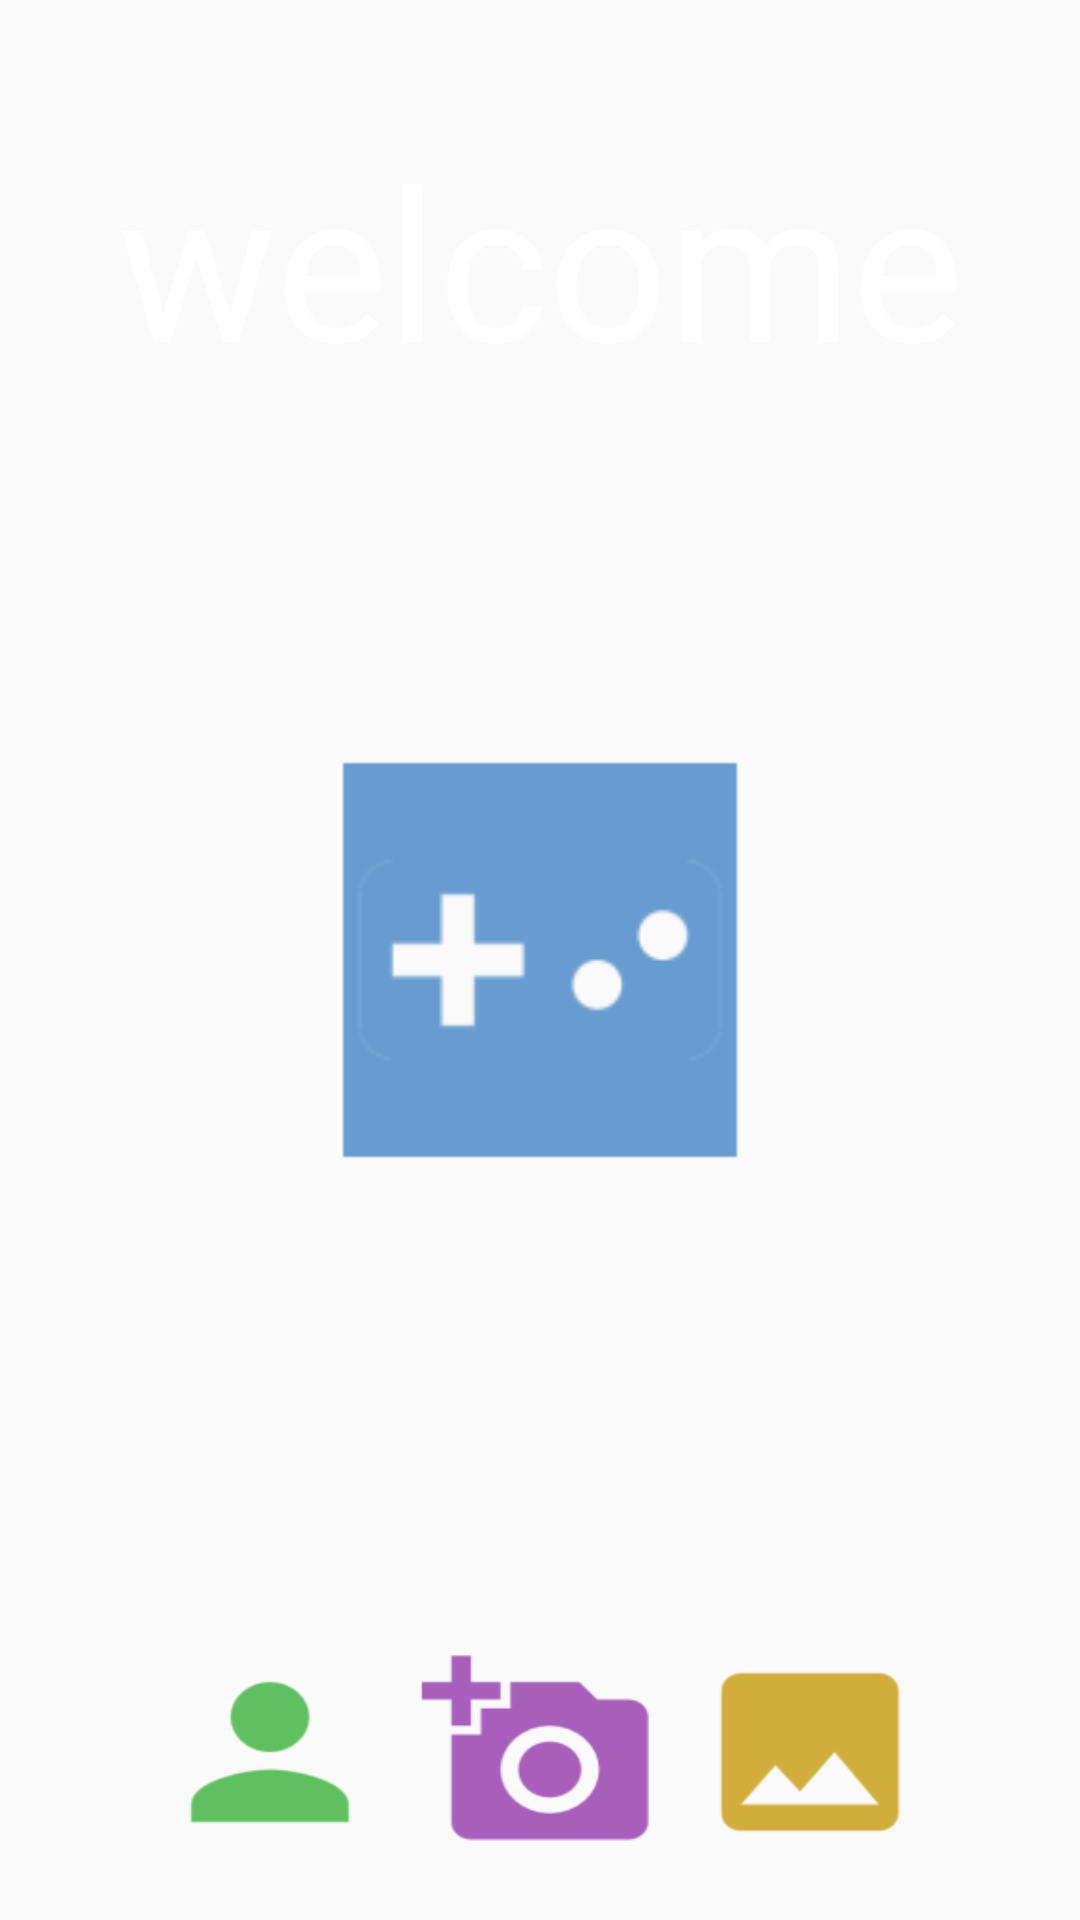

Screen size 1080 × 1920. Icon name, then its center in pixels as point (x, y):
account: point (270, 1752)
cemra: point (535, 1748)
gallery: point (810, 1752)
